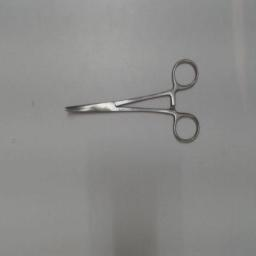Crile Artery Forceps: (58, 54, 202, 150)
